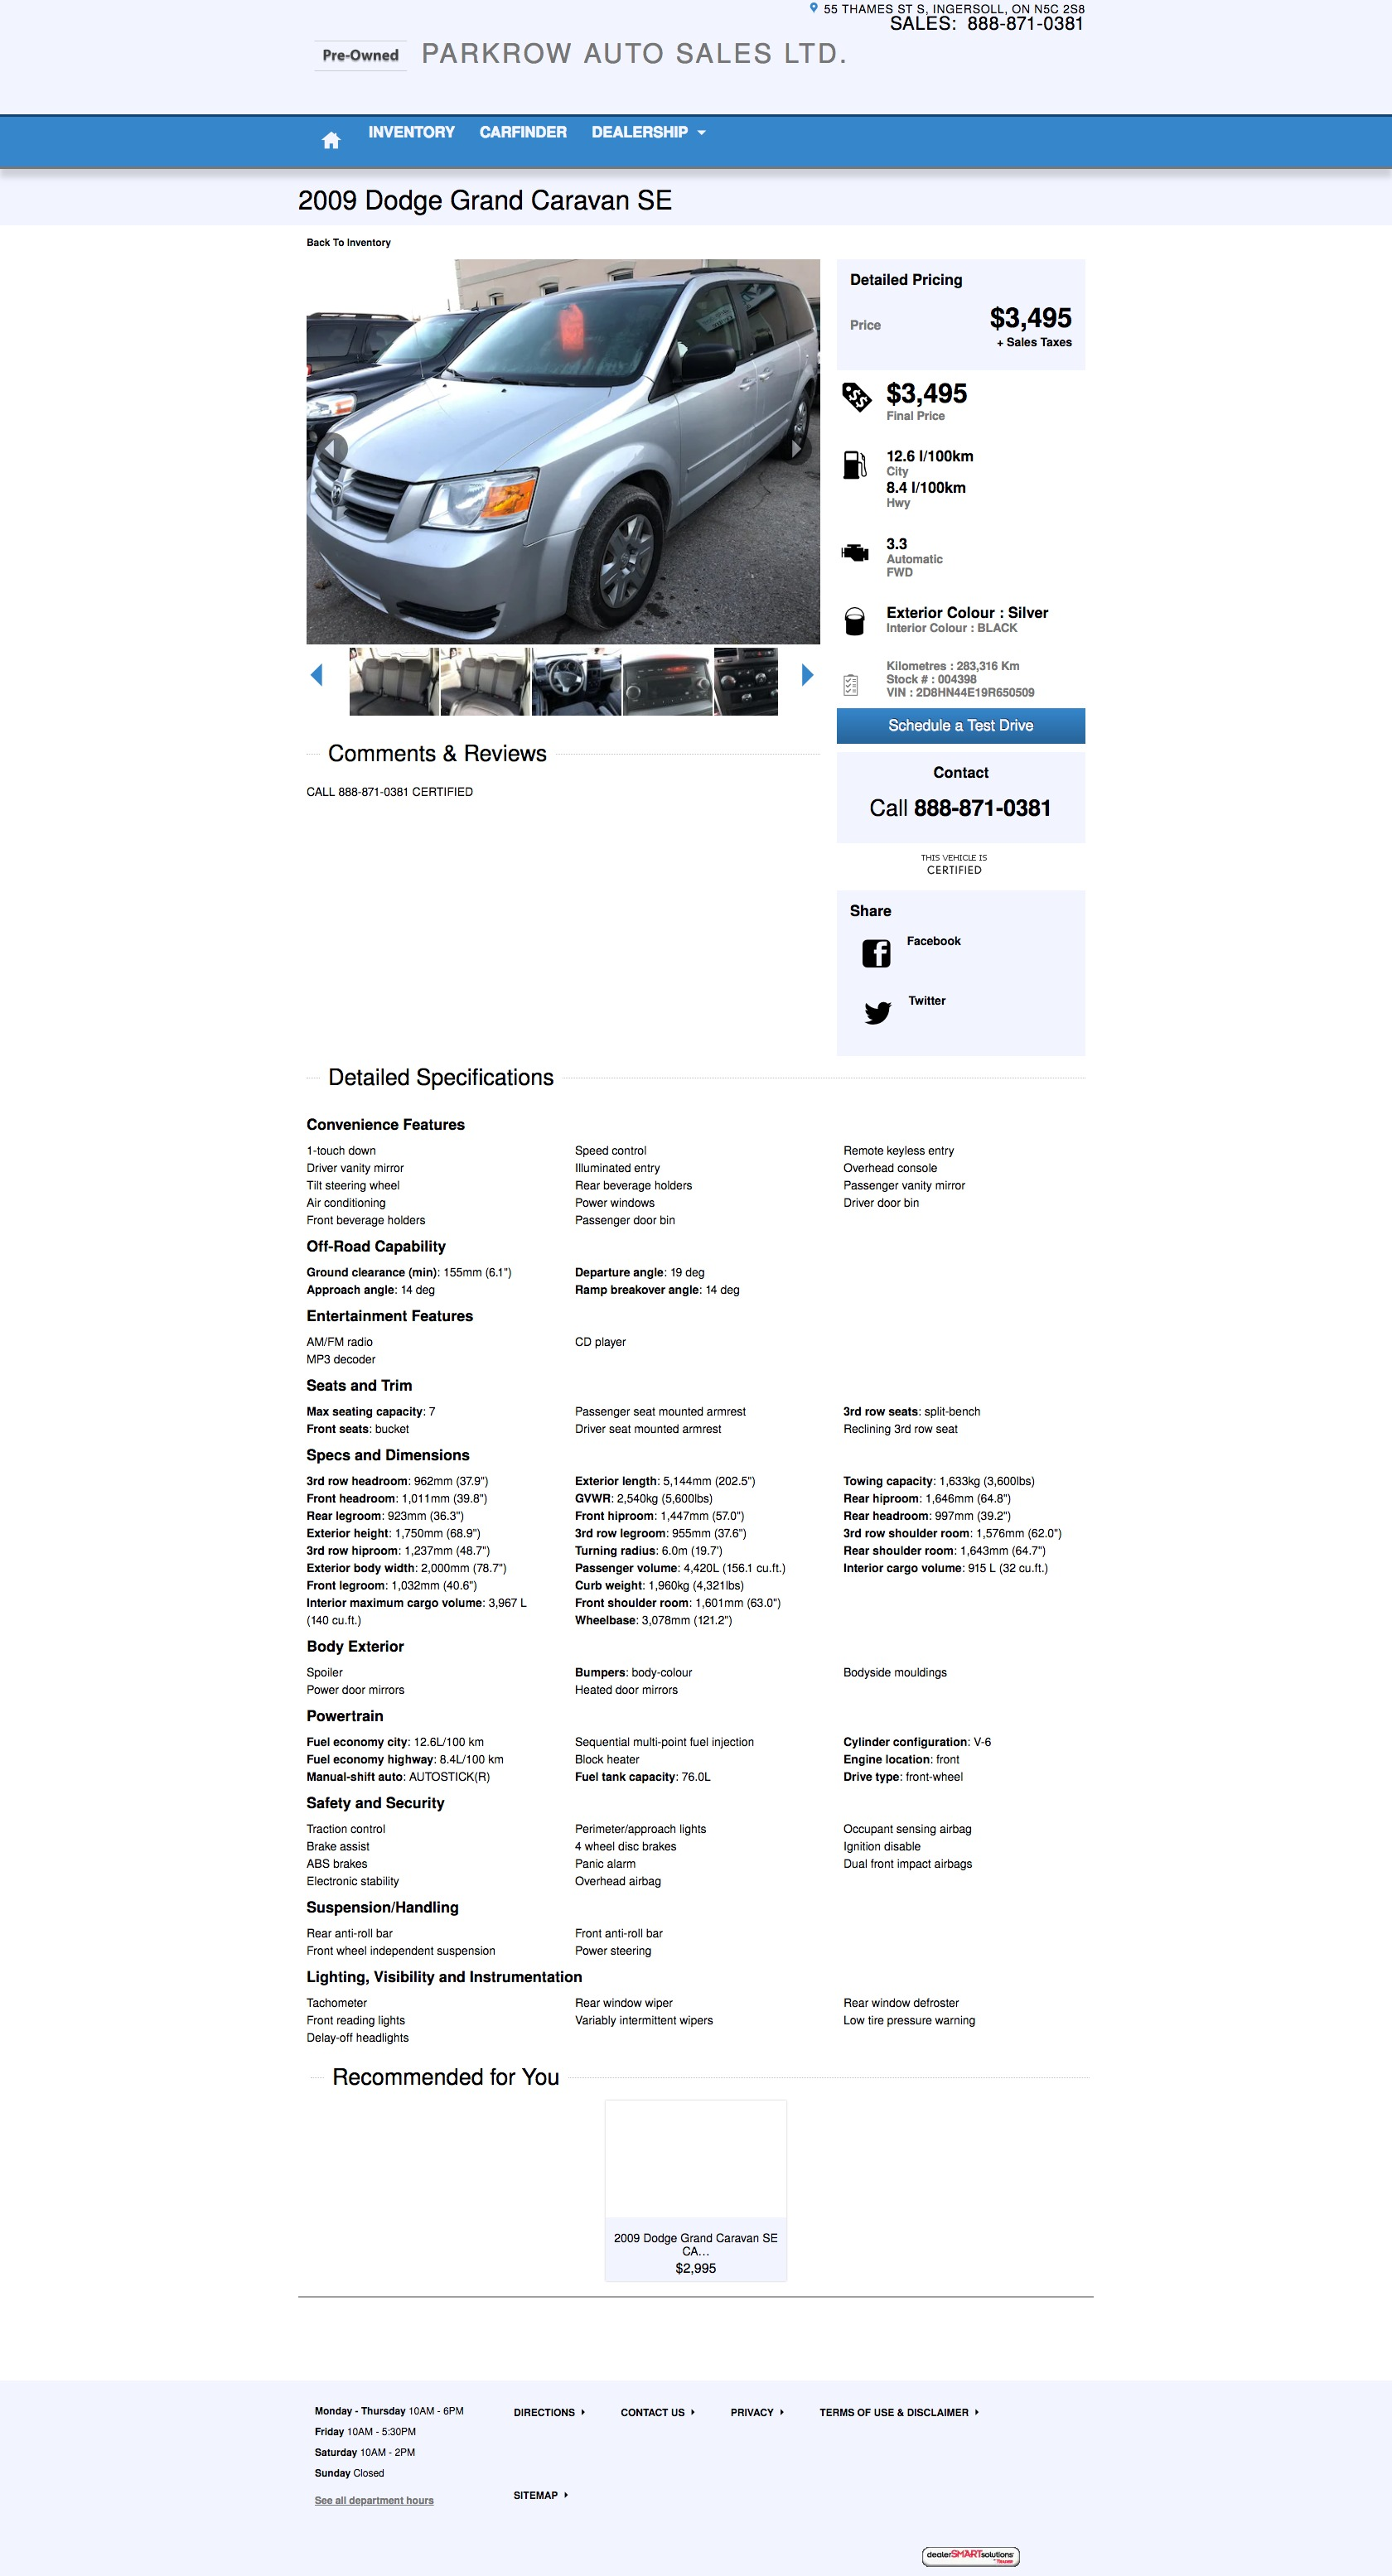car: (801, 663, 816, 687)
